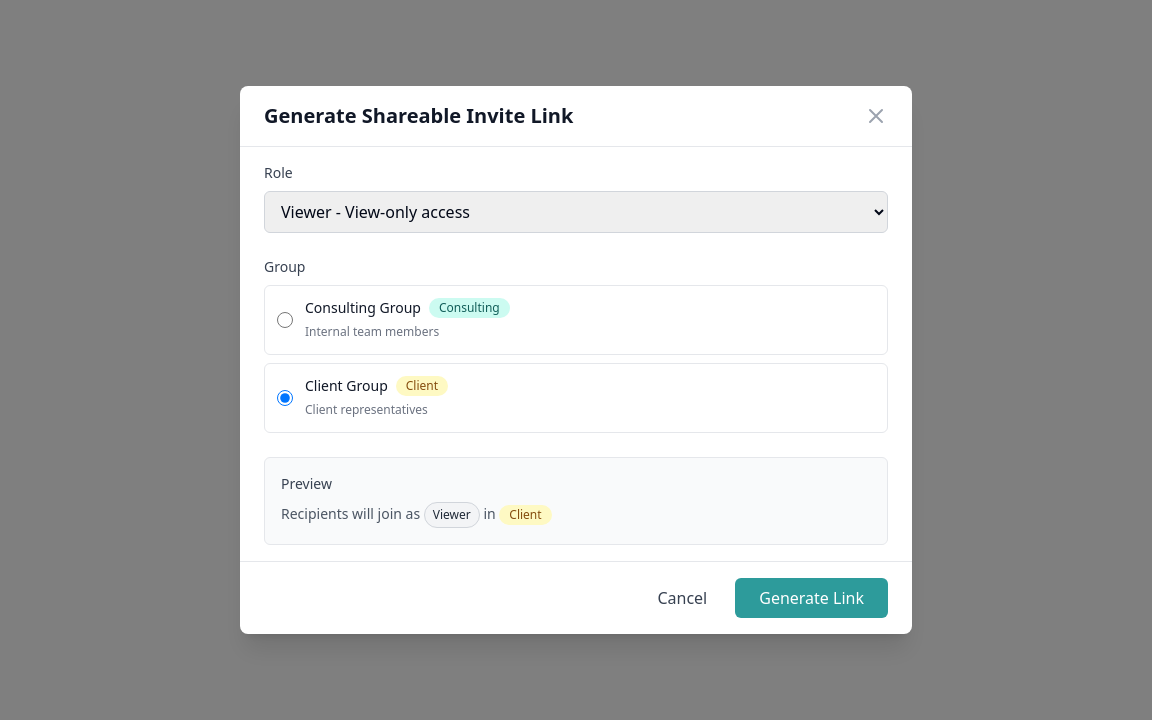
Test case: GenerateLinkModal › should display generated link after successful generation
Click the button with test id "generate-button": {"x": 812, "y": 598} [735,578,888,618]
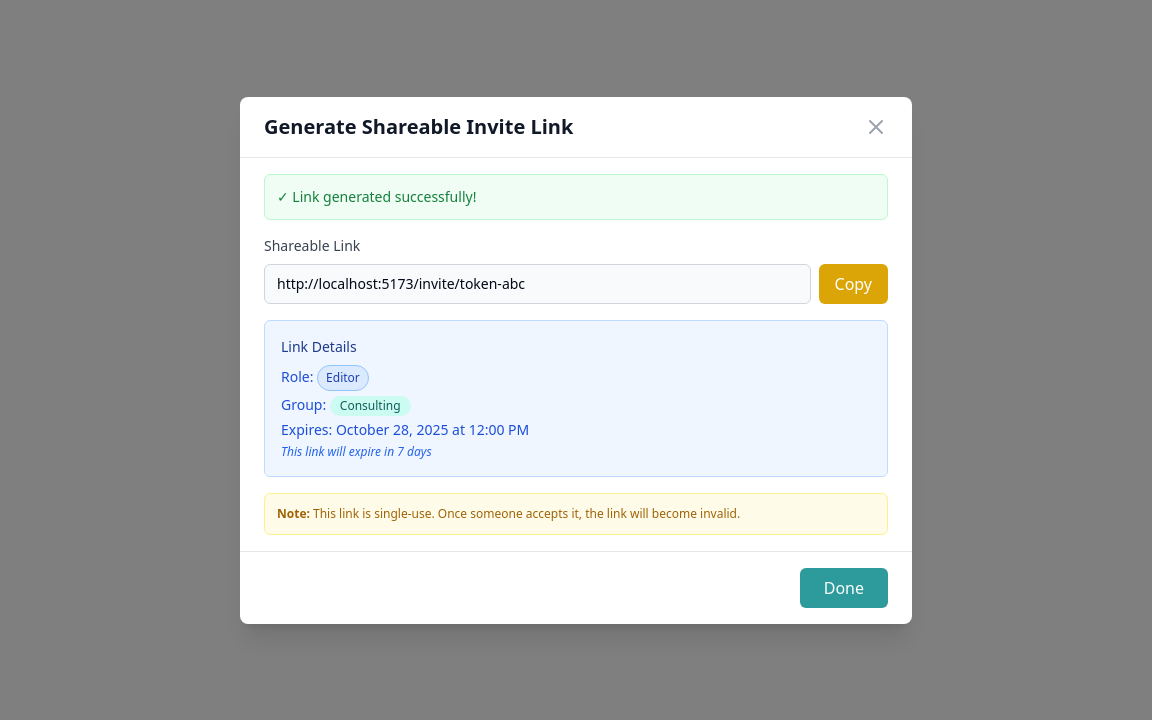
expect the text "✓ Link generated successfully!" is shown: met, box [277,186,476,206]
expect the field with test id "generated-link-input" holds "http://localhost:5173/invite/token-abc": met, box [264,264,810,304]
